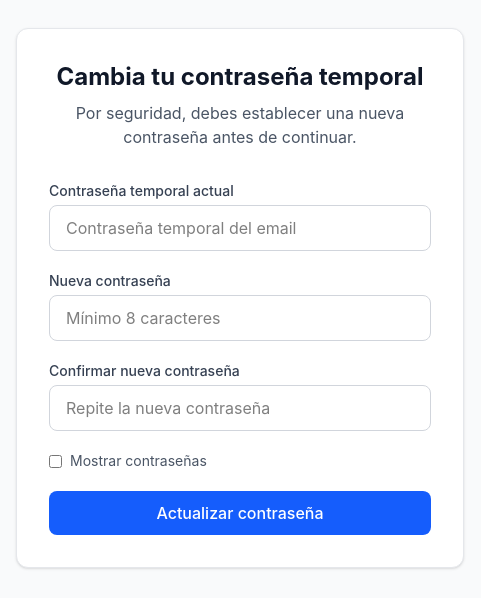
Test: PasswordChangeRequiredPage › shows error when newPassword and confirmPassword do not match
Type "TempPass123" into the password field labelled "Contraseña temporal actual" at (240, 228), box [49,205,431,251]
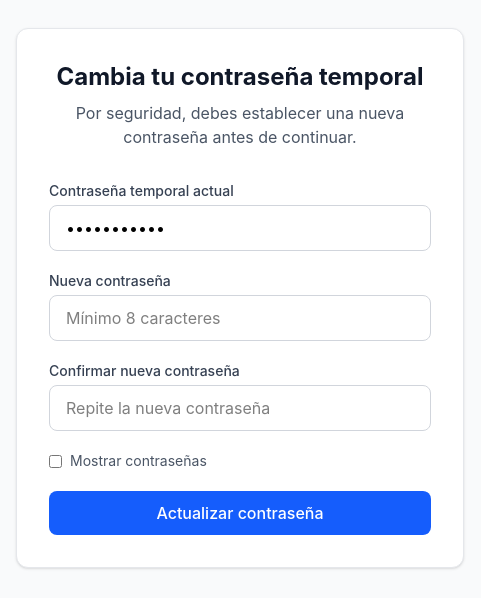
Type "NewPass456" into the password field labelled "Nueva contraseña" at (240, 318), box [49,295,431,341]
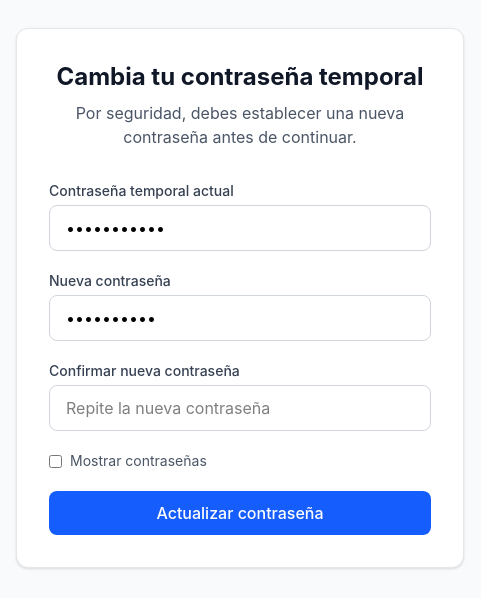
Type "DifferentPass789" into the password field labelled "Confirmar nueva contraseña" at (240, 408), box [49,385,431,431]
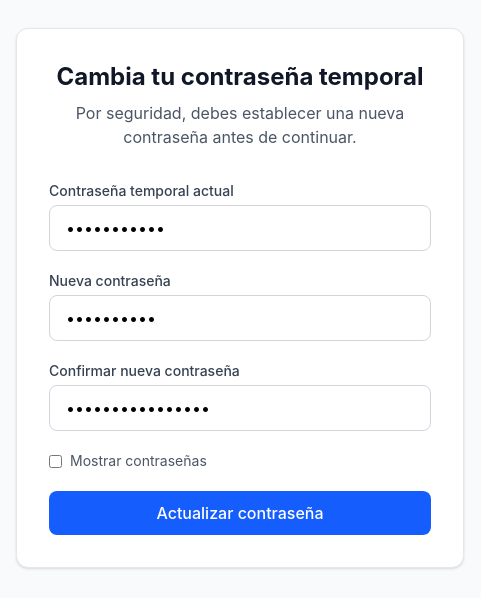
Click the button "Actualizar contraseña" at (240, 513), box [49,491,431,535]
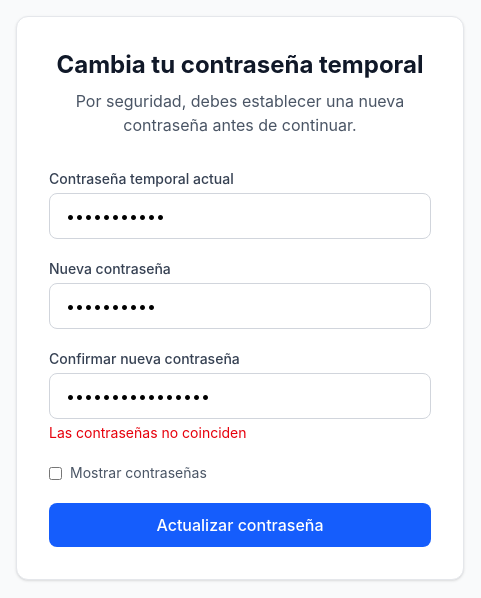
Result: the text "Las contraseñas no coinciden" is shown at [49,424,246,441]
